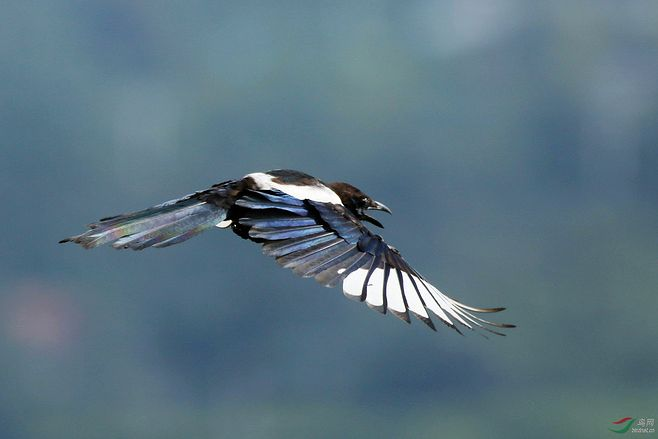bird: (44, 166, 520, 338)
